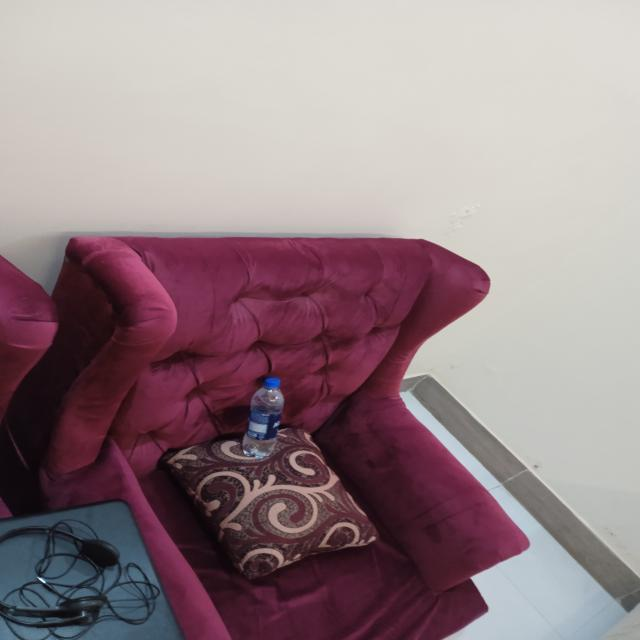Plastic: (242, 374, 290, 463)
